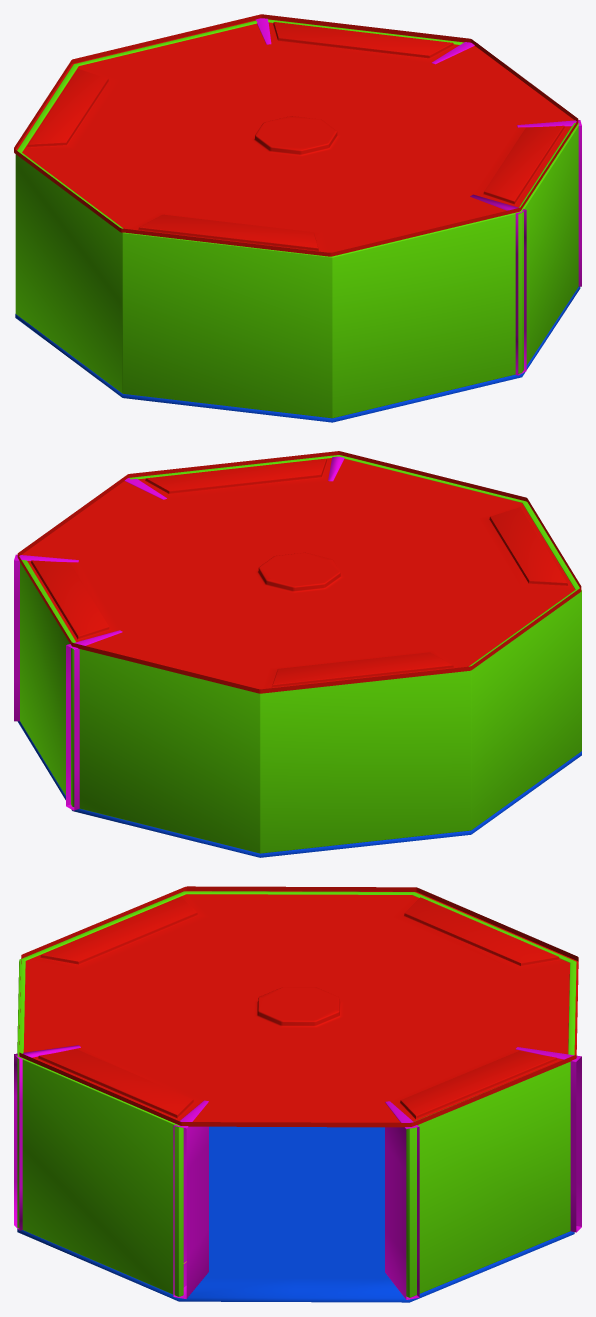
Rendered from SALLE.fbx.
3 renders of one model, top to bottom at view 1: azimuth 30°, elevation 25°; view 2: azimuth 150°, elevation 25°; view 3: azimuth 270°, elevation 25°, orthographic. The views are drawn at different scales.
Parts seen in each view (by area): view 1: HAUT, MURS, BAS, Cube.029, Cube.030; view 2: HAUT, MURS, BAS, Cube.021, Cube.025; view 3: HAUT, MURS, BAS, Cube.030, Cube.025, Cube.021, Cube.029.
Boxes of the visible parts, x1,y1,x2,y2 form: HAUT: (14,14,578,256); MURS: (15,19,579,418); BAS: (15,286,580,422); Cube.029: (470,194,526,375); Cube.030: (517,120,581,286); HAUT: (17,451,581,693); MURS: (20,455,581,853); BAS: (17,721,581,857); Cube.021: (66,630,122,810); Cube.025: (14,554,78,721); HAUT: (19,886,578,1127); MURS: (17,891,576,1297); BAS: (17,1126,574,1302); Cube.030: (173,1100,208,1298); Cube.025: (385,1101,419,1299); Cube.021: (515,1047,581,1232); Cube.029: (14,1045,80,1230).
Bounding box in the file's own units: 748 × 263 × 753.
